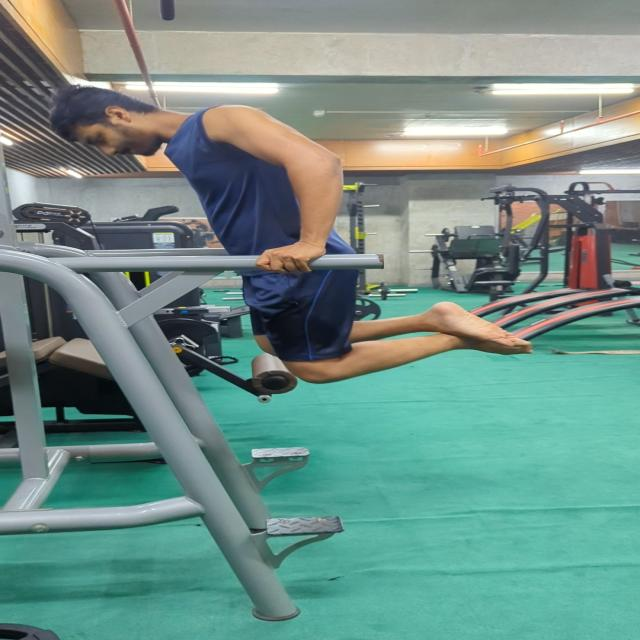Normal_Dips: (39, 82, 542, 388)
